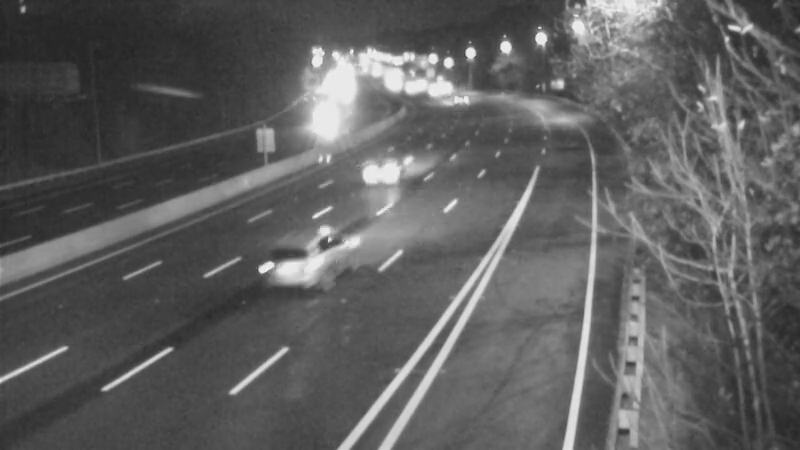vehicle: (337, 131, 417, 211), (253, 219, 333, 299), (429, 74, 479, 124), (303, 95, 353, 145)
